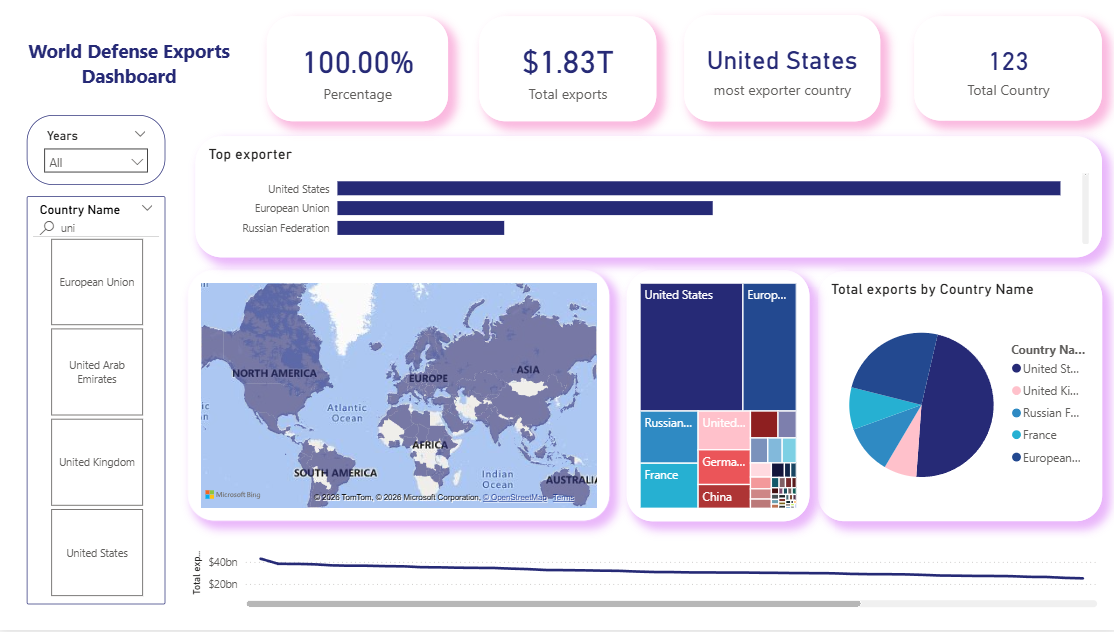

This screenshot's page, from the dashboard's own definition file:
{"tool":"powerbi","page":{"name":"Page 1","canvas":[1280,720],"ordinal":1},"visuals":[{"type":"slicer","fields":{"Values":["exporter countryes.Years"]},"box":[33.1,131.3,158.3,79.8],"z":0},{"type":"slicer","fields":{"Values":["exporter countryes.Country Name"]},"box":[33.1,224.5,158.3,466.3],"z":1000},{"type":"card","fields":{"Values":["exporter countryes.percen"]},"box":[306.8,18.4,207.4,120.2],"z":2000},{"type":"card","fields":{"Values":["exporter countryes.Total exports"]},"box":[550,18.8,202.5,120],"z":3000},{"type":"pieChart","fields":{"Category":["exporter countryes.Country Name"],"Y":["exporter countryes.Total exports"]},"box":[937.4,310.4,325.2,285.9],"z":4000},{"type":"filledMap","title":"exporting contry","fields":{"Category":["exporter countryes.Country Name"]},"box":[216.8,308.7,481.6,286.8],"z":5000},{"type":"lineChart","fields":{"Category":["exporter countryes.Years"],"Y":["exporter countryes.Total exports"]},"box":[217.2,616,1044.2,83.4],"z":6000},{"type":"treemap","fields":{"Values":["Sum(exporter countryes.exports)"],"Group":["exporter countryes.Country Name"]},"box":[719,309.2,208.6,287.1],"z":7000},{"type":"clusteredBarChart","title":"Top exporter","fields":{"Y":["Sum(exporter countryes.exports)"],"Category":["exporter countryes.Country Name"]},"box":[226.2,155,1036.2,138.8],"z":8000},{"type":"card","fields":{"Values":["Min(exporter countryes.Country Name)"]},"box":[783.8,17.5,223.8,121.2],"z":9000},{"type":"textbox","box":[20.9,39.3,256.4,74.8],"z":10000},{"type":"card","fields":{"Values":["exporter countryes.Total Country"]},"box":[1046.6,18.4,214.7,119],"z":11001}]}

Visuals, with their boxes in screenshot pixels (x1, y1, x2, y2), scaled from the page's 1280x720 canvas onto the 1114x632 screenshot:
slicer - exporter countryes.Years: box=[29, 115, 167, 185]
slicer - exporter countryes.Country Name: box=[29, 197, 167, 606]
card - exporter countryes.percen: box=[267, 16, 448, 122]
card - exporter countryes.Total exports: box=[479, 17, 655, 122]
pieChart - exporter countryes.Country Name x exporter countryes.Total exports: box=[816, 272, 1099, 523]
"exporting contry" filledMap: box=[189, 271, 608, 523]
lineChart - exporter countryes.Years x exporter countryes.Total exports: box=[189, 541, 1098, 614]
treemap - Sum(exporter countryes.exports) x exporter countryes.Country Name: box=[626, 271, 807, 523]
"Top exporter" clusteredBarChart: box=[197, 136, 1099, 258]
card - Min(exporter countryes.Country Name): box=[682, 15, 877, 122]
textbox: box=[18, 34, 241, 100]
card - exporter countryes.Total Country: box=[911, 16, 1098, 121]
